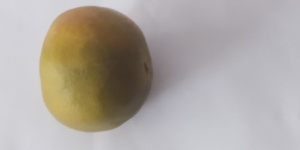BAD: (40, 5, 155, 133)
